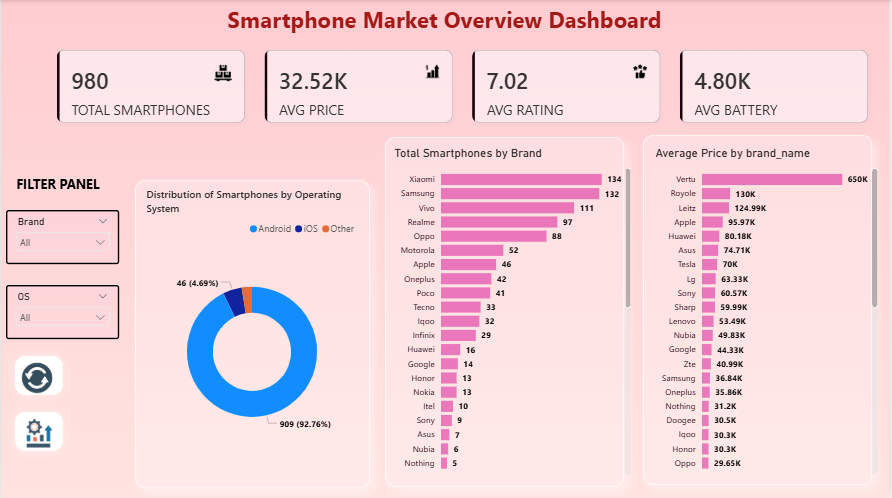

The dashboard page shown, as its layout file describes it:
{"tool":"powerbi","page":{"name":"Overview Dashboard","canvas":[1280,720],"ordinal":0},"visuals":[{"type":"shape","box":[23,557.3,69.1,56.2],"z":0},{"type":"textbox","box":[136.8,0,1003.7,63.4],"z":1000},{"type":"shape","box":[924.5,194.4,329.8,504],"z":2000},{"type":"shape","box":[553,197.3,344.2,504],"z":3000},{"type":"cardVisual","fields":{"Data":["smartphones.Total Smartphones","smartphones.Average Price","smartphones.Average Rating","smartphones.Average Battery"]},"box":[63.4,54.7,1203.8,139.7],"z":4000},{"type":"barChart","title":"Total Smartphones by Brand","fields":{"Category":["smartphones.brand_name"],"Y":["CountNonNull(smartphones.model)"]},"box":[561.6,210.2,350,478.1],"z":5000},{"type":"barChart","fields":{"Category":["smartphones.brand_name"],"Y":["smartphones.Average Price"]},"box":[937.4,210.2,329.8,478.1],"z":6000},{"type":"shape","box":[181.4,259.2,349.9,443.5],"z":7000},{"type":"donutChart","title":"Distribution of Smartphones by Operating System","fields":{"Category":["smartphones.os"],"Y":["CountNonNull(smartphones.model)"]},"box":[191.5,269.3,326.9,406.1],"z":8000},{"type":"slicer","fields":{"Values":["smartphones.brand_name"]},"box":[7.2,233.3,162.7,77.8],"z":9000},{"type":"textbox","box":[7.2,194.4,149.8,41.8],"z":10000},{"type":"slicer","fields":{"Values":["smartphones.ram_capacity"]},"box":[8.6,450.7,162.7,77.8],"z":11000},{"type":"slicer","title":"OS","fields":{"Values":["smartphones.os"]},"box":[7.2,345.6,162.7,77.8],"z":12000},{"type":"image","box":[31.7,553,60.5,63.4],"z":13000},{"type":"shape","box":[7.2,96.5,69.1,56.2],"z":14000},{"type":"image","box":[14.4,93.6,54.7,63.4],"z":15000}]}

Visuals, with their boxes in screenshot pixels (x1, y1, x2, y2), scaled from the page's 1280x720 canvas onto the 892x498 screenshot:
shape: [16,385,64,424]
textbox: [95,0,795,44]
shape: [644,134,874,483]
shape: [385,136,625,485]
cardVisual - smartphones.Total Smartphones x smartphones.Average Price: [44,38,883,134]
"Total Smartphones by Brand" barChart: [391,145,635,476]
barChart - smartphones.brand_name x smartphones.Average Price: [653,145,883,476]
shape: [126,179,370,486]
"Distribution of Smartphones by Operating System" donutChart: [133,186,361,467]
slicer - smartphones.brand_name: [5,161,118,215]
textbox: [5,134,109,163]
slicer - smartphones.ram_capacity: [6,312,119,366]
"OS" slicer: [5,239,118,293]
image: [22,382,64,426]
shape: [5,67,53,106]
image: [10,65,48,109]
